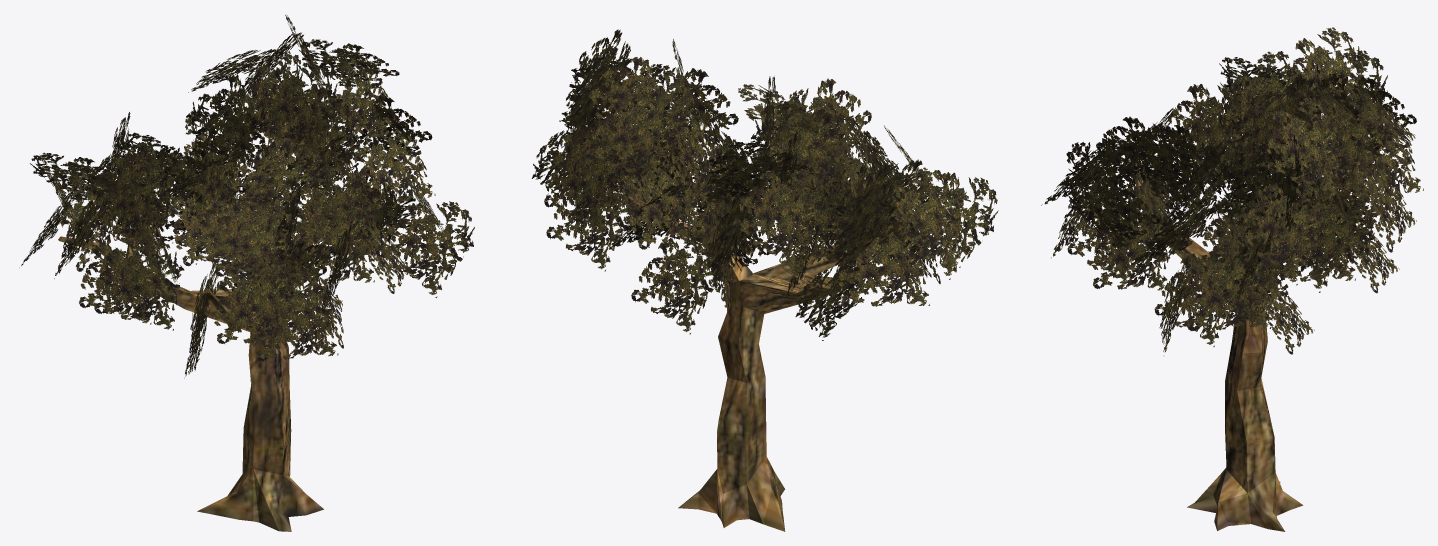
Rendered from dashu2.fbx.
3 views of the same model, side by side, from view 1: azimuth 30°, elevation 25°; view 2: azimuth 150°, elevation 25°; view 3: azimuth 270°, elevation 25° (orthographic). The views are drawn at different scales.
Parts seen in each view (by area): view 1: dashu2; view 2: dashu2; view 3: dashu2.
Boxes of the visible parts, x1,y1,x2,y2 form: dashu2: (19,15,474,531); dashu2: (531,29,998,531); dashu2: (1041,27,1423,531).
Bounding box in the file's own units: 1910 × 2095 × 1544.
